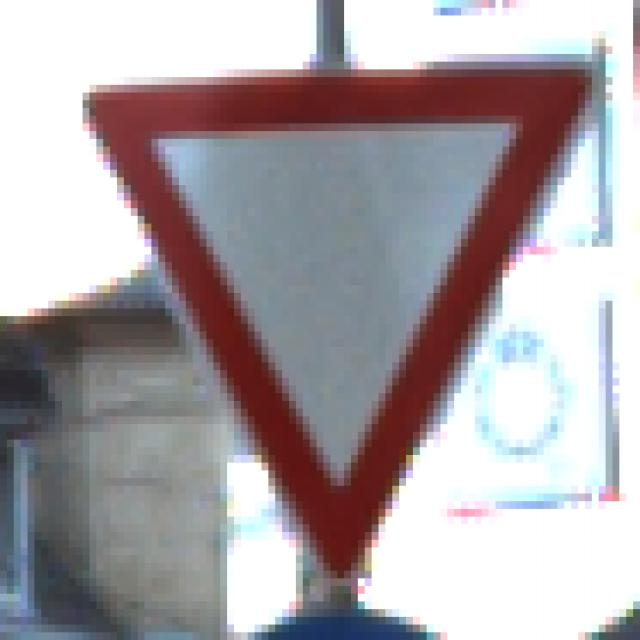Give Way: (63, 55, 579, 587)
